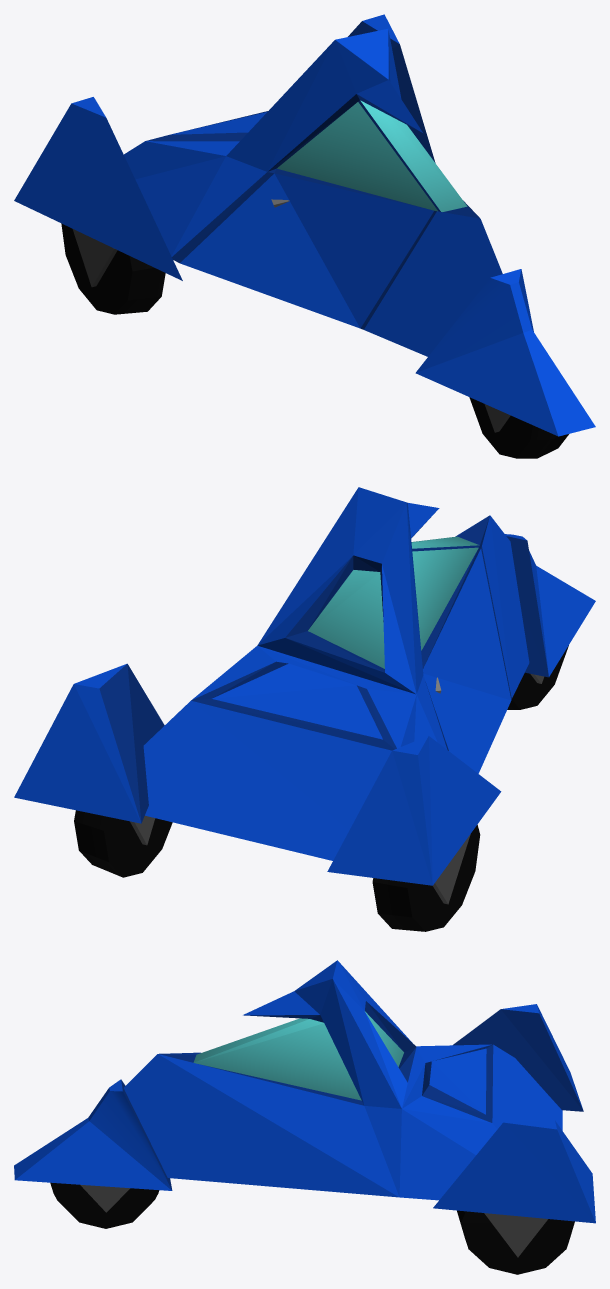
File: c_car_triangle_aa.fbx
The picture shows the model from 3 angles, top to bottom: view 1: azimuth 30°, elevation 25°; view 2: azimuth 150°, elevation 25°; view 3: azimuth 270°, elevation 25°; orthographic projection. The views are drawn at different scales.
Parts seen in each view (by area): view 1: c_car_triangle_aa; view 2: c_car_triangle_aa; view 3: c_car_triangle_aa.
Part boxes in pixels (box(x1,y1,x2,y2)): c_car_triangle_aa: box(14, 14, 595, 458); c_car_triangle_aa: box(14, 487, 595, 931); c_car_triangle_aa: box(14, 960, 595, 1274).
Size of the model in its own units: 3.08 by 2.36 by 4.96.
